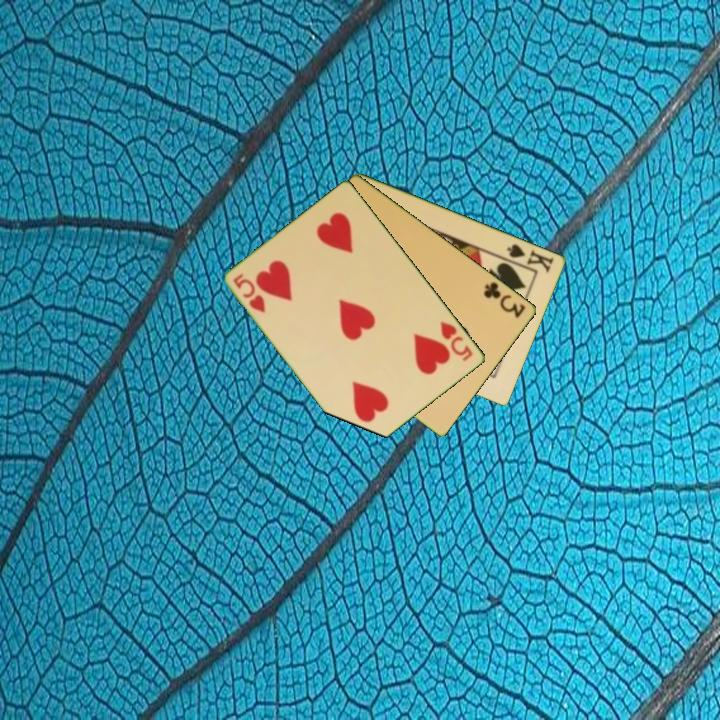3c: (480, 278, 529, 321)
5h: (437, 317, 476, 364), (230, 270, 269, 316)
Ks: (501, 240, 557, 275)
